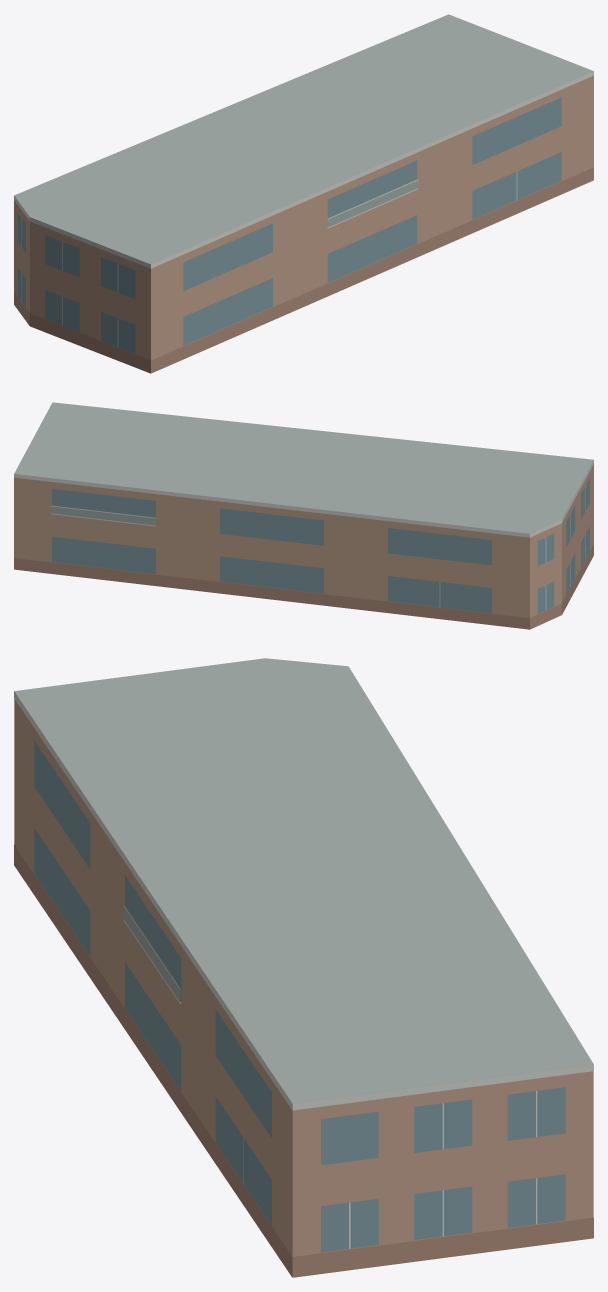
Rendered from survey-upis-32668370.glb.
3 renders of one model, top to bottom at view 1: azimuth 30°, elevation 25°; view 2: azimuth 150°, elevation 25°; view 3: azimuth 270°, elevation 25°, orthographic. The views are drawn at different scales.
Parts seen in each view (by area): view 1: survey-upis-32668370.tmp; view 2: survey-upis-32668370.tmp; view 3: survey-upis-32668370.tmp.
Boxes of the visible parts, x1,y1,x2,y2 form: survey-upis-32668370.tmp: [14, 14, 593, 373]; survey-upis-32668370.tmp: [14, 402, 593, 629]; survey-upis-32668370.tmp: [14, 658, 593, 1277].
Size of the model in its own units: 33.48 by 6.1 by 18.42.
